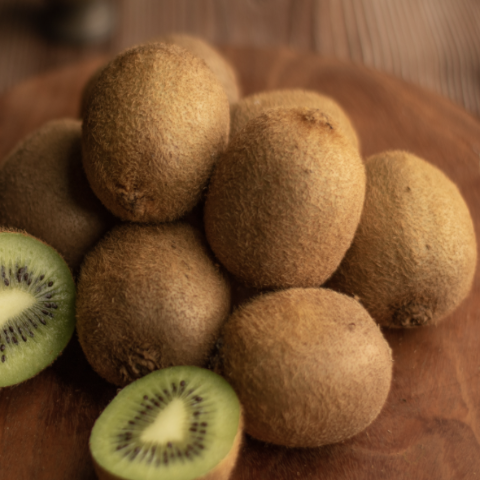kiwi: (192, 286, 410, 443), (185, 100, 371, 283), (54, 218, 235, 395), (66, 32, 233, 217), (332, 147, 479, 348)
